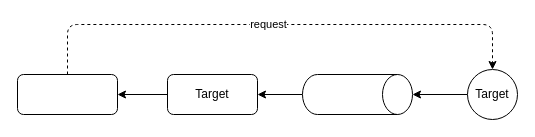
This 535x137 diagram has some shape labels left out. Each missing label, with the centre of its shape:
"Adapter" goes at point (357, 94).
"Visitor" goes at point (67, 94).
